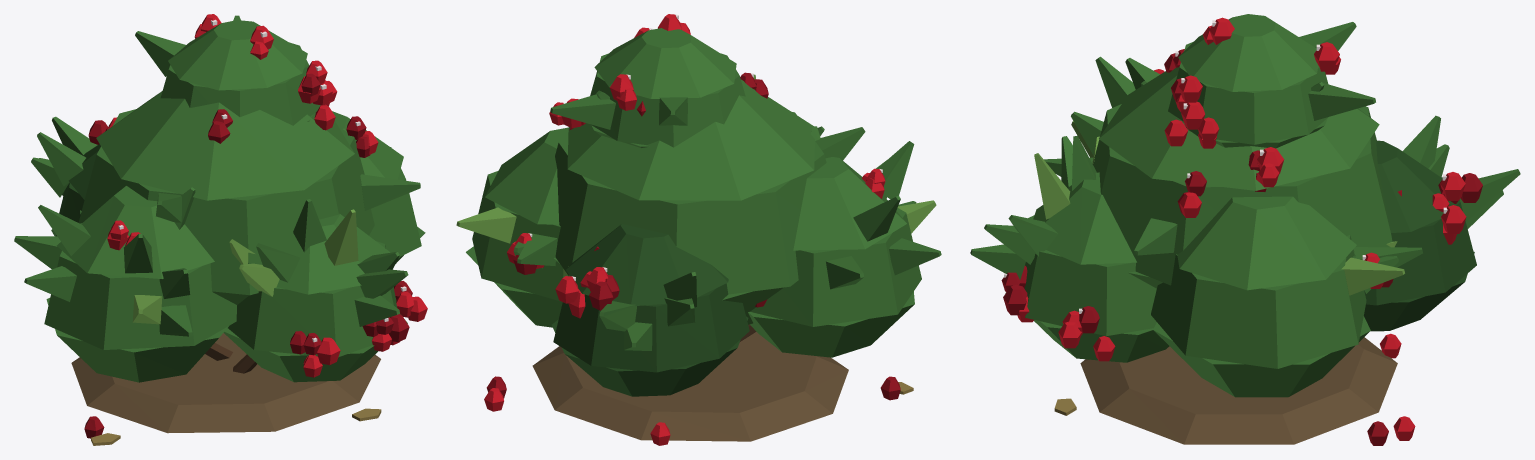
File: berry_bush_1.obj
The picture shows the model from 3 angles, left to right: view 1: azimuth 30°, elevation 25°; view 2: azimuth 150°, elevation 25°; view 3: azimuth 270°, elevation 25°; orthographic projection. The views are drawn at different scales.
Visible parts, largest first — view 1: Leaves, Leaf, Mound, Berry, Stem, Fallen.Leaf; view 2: Leaves, Mound, Leaf, Berry; view 3: Leaves, Mound, Leaf, Berry.
Part boxes in pixels (x1,y1,x2,y2): Leaves: (44, 20, 425, 382); Leaf: (14, 15, 420, 336); Mound: (71, 333, 380, 433); Berry: (84, 14, 427, 438); Stem: (205, 343, 256, 373); Fallen.Leaf: (91, 408, 381, 445); Leaves: (466, 28, 921, 396); Mound: (532, 332, 848, 441); Leaf: (456, 74, 941, 350); Berry: (484, 14, 900, 445); Leaves: (1005, 14, 1476, 397); Mound: (1080, 337, 1397, 444); Leaf: (970, 22, 1520, 295); Berry: (1001, 17, 1482, 445).
Bounding box in the file's own units: 2.27 × 1.81 × 2.39.
